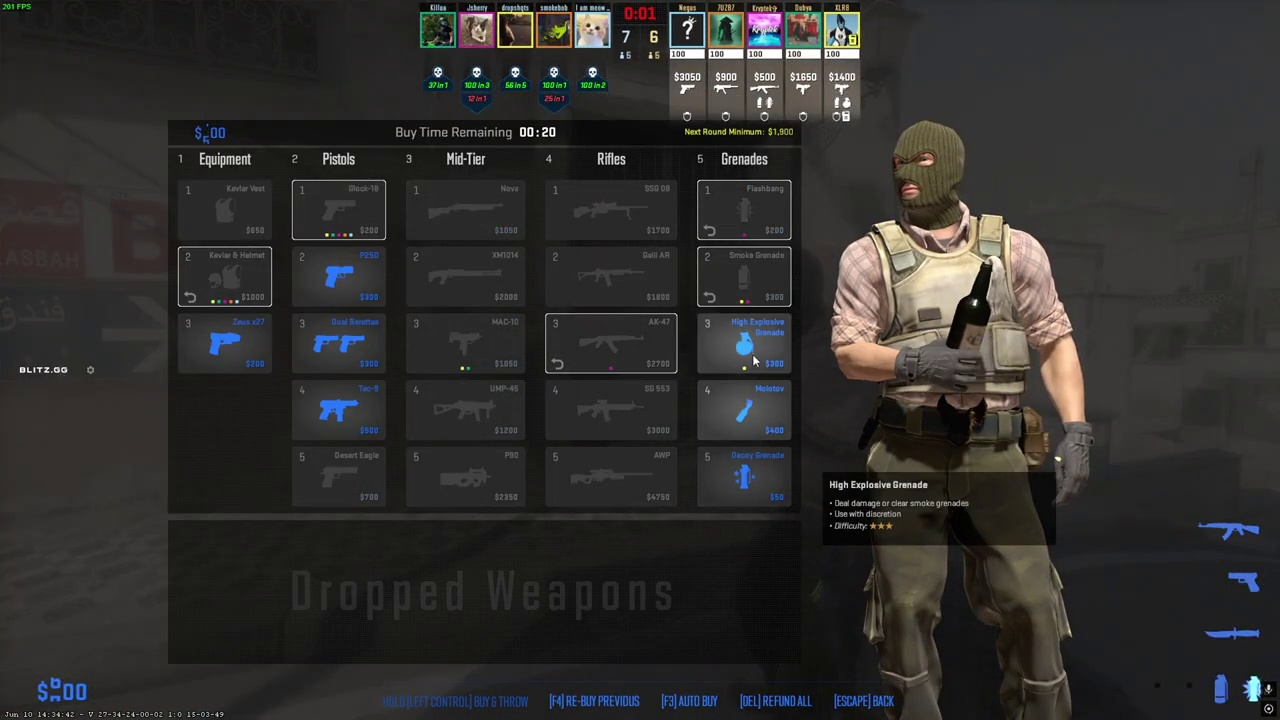Terrorist: (846, 120, 1077, 720)
